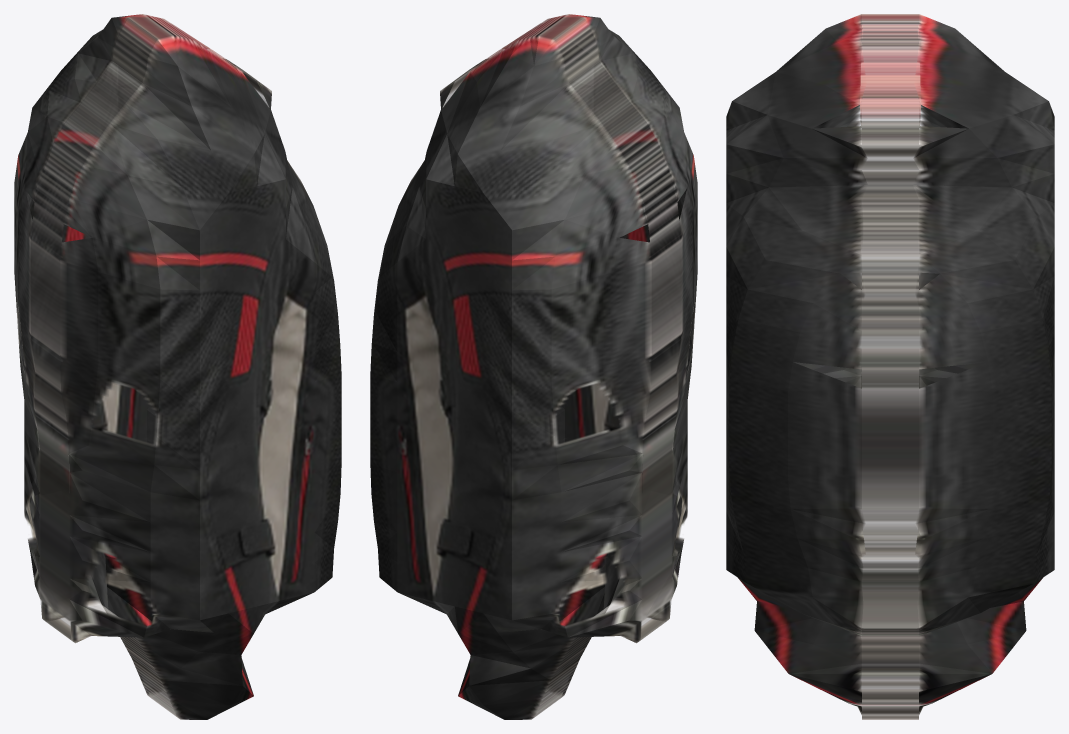
The model's file is givi-circuit-mesh-jacket-017.glb.
The picture shows the model from 3 angles, left to right: view 1: azimuth 30°, elevation 25°; view 2: azimuth 150°, elevation 25°; view 3: azimuth 270°, elevation 25°; orthographic projection.
Visible parts, largest first — view 1: world; view 2: world; view 3: world.
Boxes of the visible parts, <box> form: world: <box>14,14,341,719</box>; world: <box>370,14,697,719</box>; world: <box>726,14,1054,719</box>.
Size of the model in its own units: 0.4029 by 1 by 0.44.
1 material, 1 textured.
